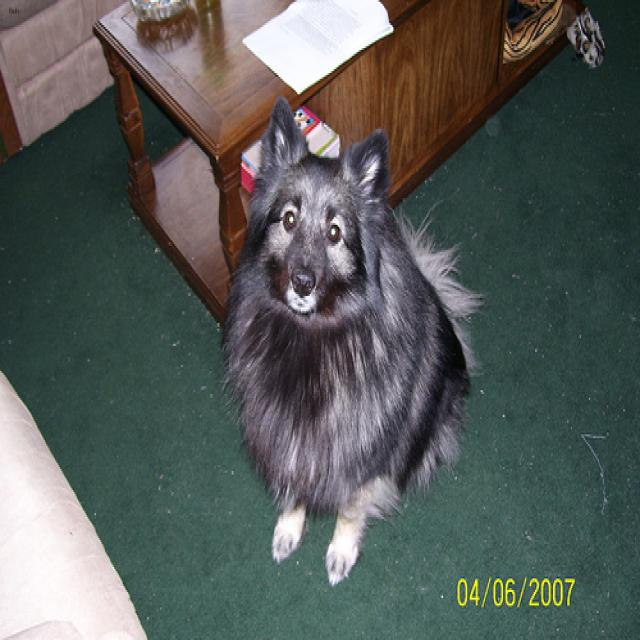dog-keeshond: (218, 83, 488, 602)
